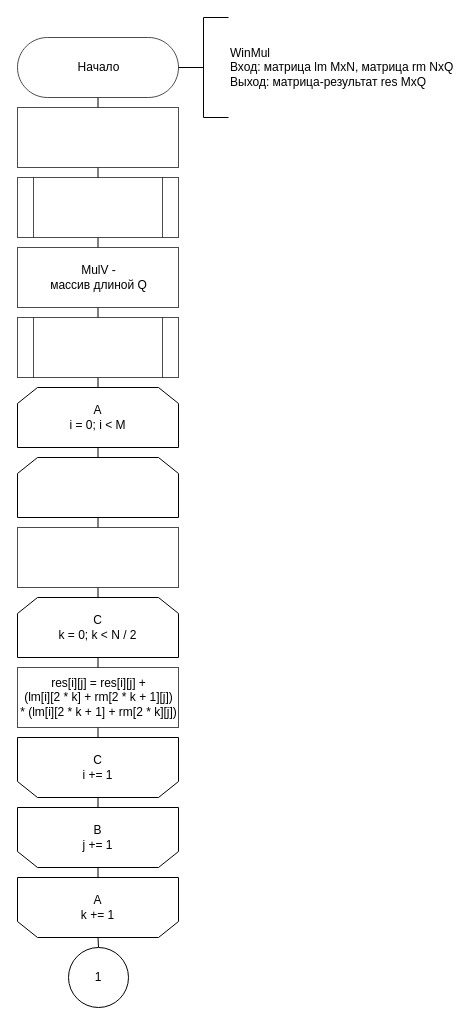
This 471x1025 diagram has some shape labels left out. Each missing label, with the centre of its shape:
B j = 0; j < Q: the point at 97,487
FillMulH(lm, MulH): the point at 97,207
FillMulV(rm, MulV): the point at 97,347
MulH - массив длиной M: the point at 97,137
res[i][j] = -MulH[i] - MulV[j]: the point at 97,557
